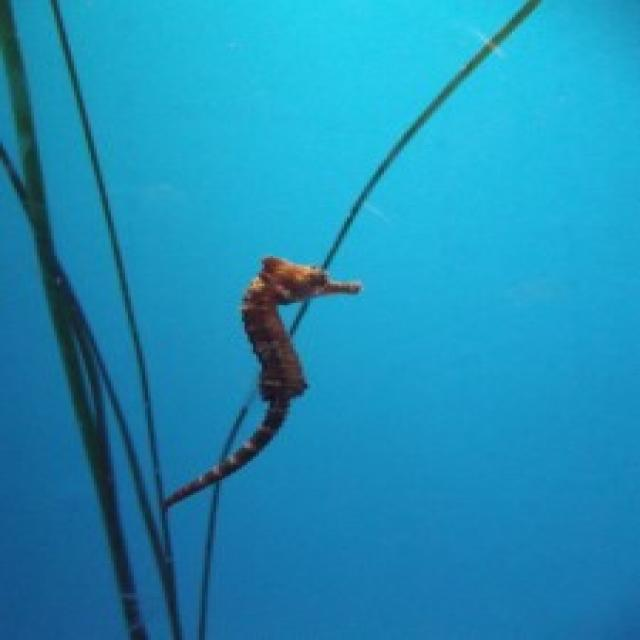Seahorse: (142, 254, 386, 523)
